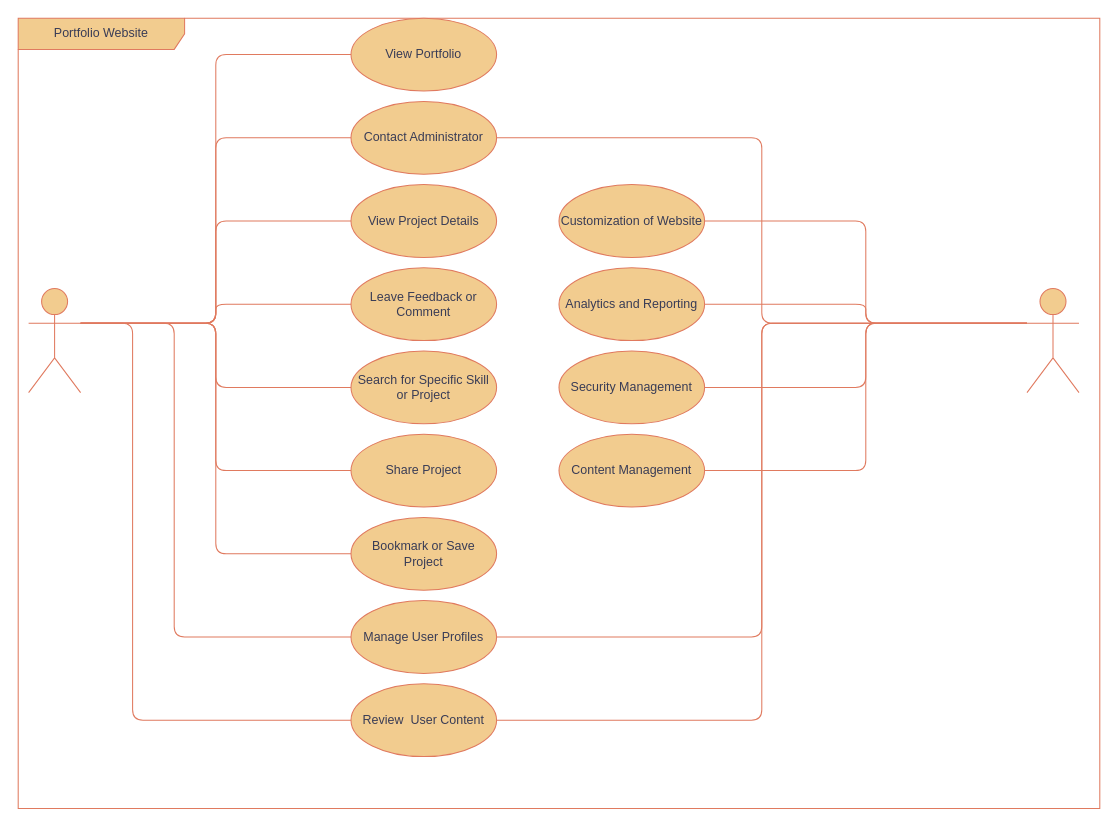
Image size: 1118x827. Some labels were removed from this diagram. The centre of each missing label's shape, as x and y in pixels:
"Administrator" goes at (1052,340).
"End User" goes at (54,340).
